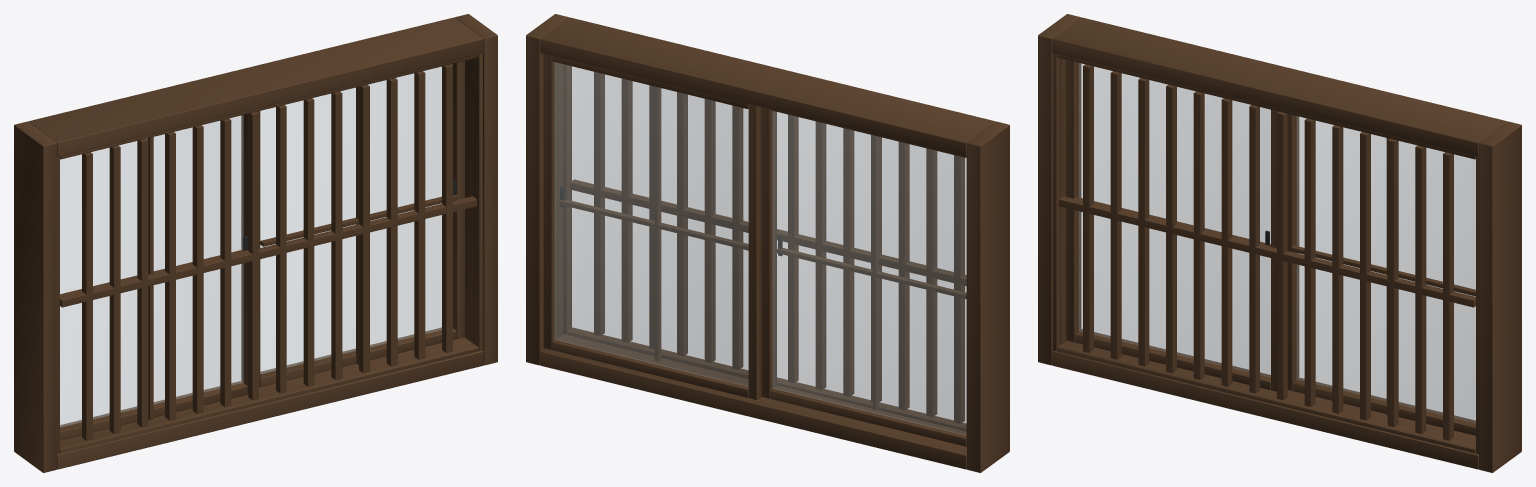
Rendered from kominka-sliding-window-01.glb.
The picture shows the model from 3 angles, left to right: view 1: azimuth 30°, elevation 25°; view 2: azimuth 150°, elevation 25°; view 3: azimuth 330°, elevation 25°; orthographic projection.
Visible parts, largest first — view 1: kominka-sliding-window-01; view 2: kominka-sliding-window-01; view 3: kominka-sliding-window-01.
Boxes of the visible parts, x1,y1,x2,y2 form: kominka-sliding-window-01: (14, 14, 497, 472); kominka-sliding-window-01: (526, 14, 1009, 472); kominka-sliding-window-01: (1038, 14, 1521, 472).
Bounding box in the file's own units: 1.6 × 1.1 × 0.18.
